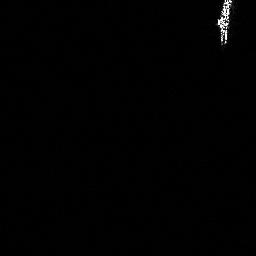ship: (213, 1, 235, 47)
